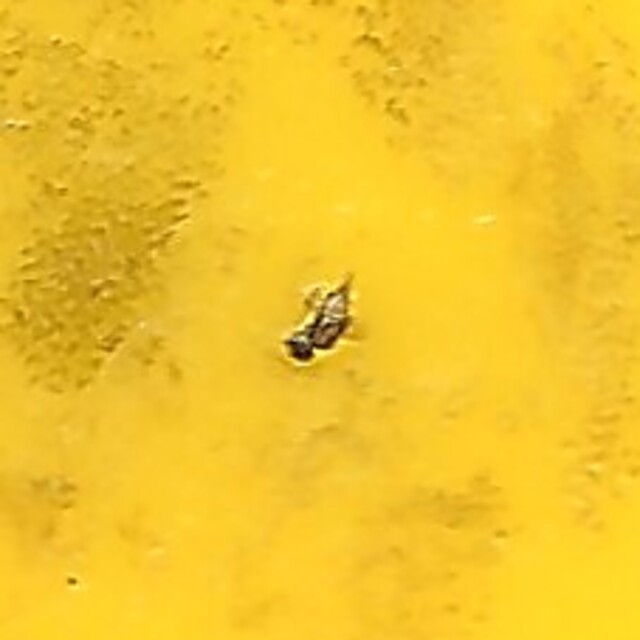Brachycera: (282, 269, 358, 371)
